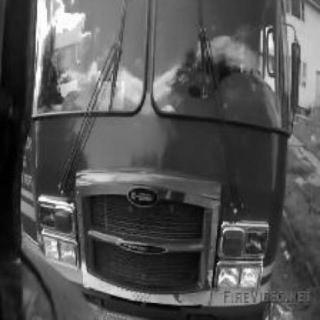other: (35, 116, 279, 316)
